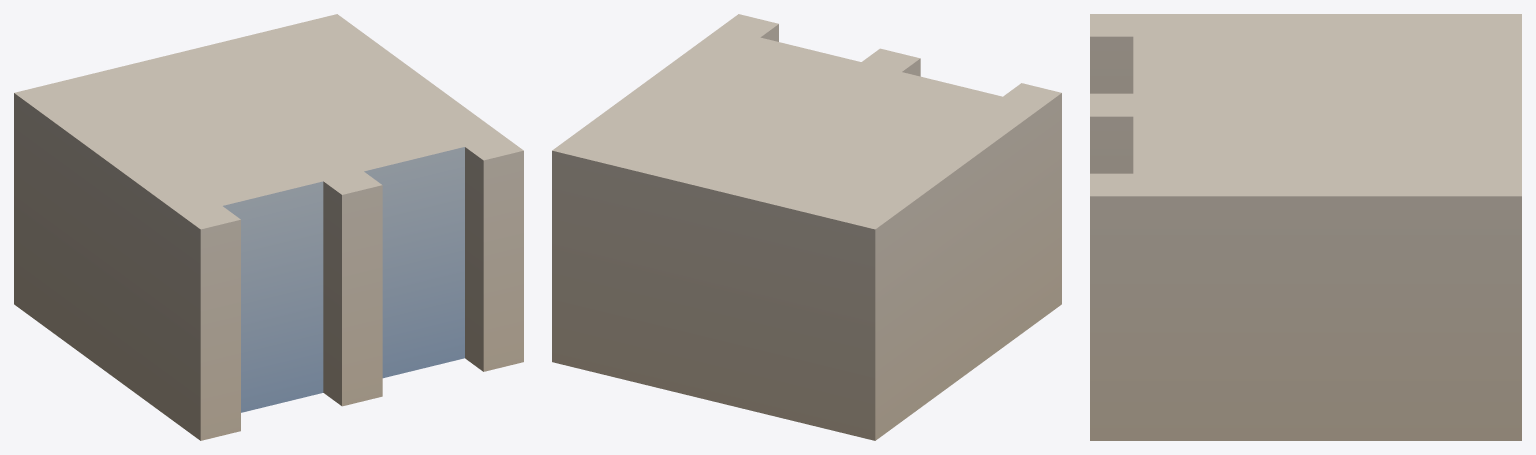
The model's file is building-windows-high-middle.glb.
3 renders of one model, left to right at view 1: azimuth 30°, elevation 25°; view 2: azimuth 150°, elevation 25°; view 3: azimuth 270°, elevation 25°, orthographic. The views are drawn at different scales.
Visible parts, largest first — view 1: building-windows-high-middle; view 2: building-windows-high-middle; view 3: building-windows-high-middle.
Part boxes in pixels (x1=…): building-windows-high-middle: x1=14, y1=14, x2=523, y2=440; building-windows-high-middle: x1=552, y1=14, x2=1061, y2=440; building-windows-high-middle: x1=1090, y1=14, x2=1521, y2=440.
Size of the model in its own units: 1 by 0.625 by 1.
